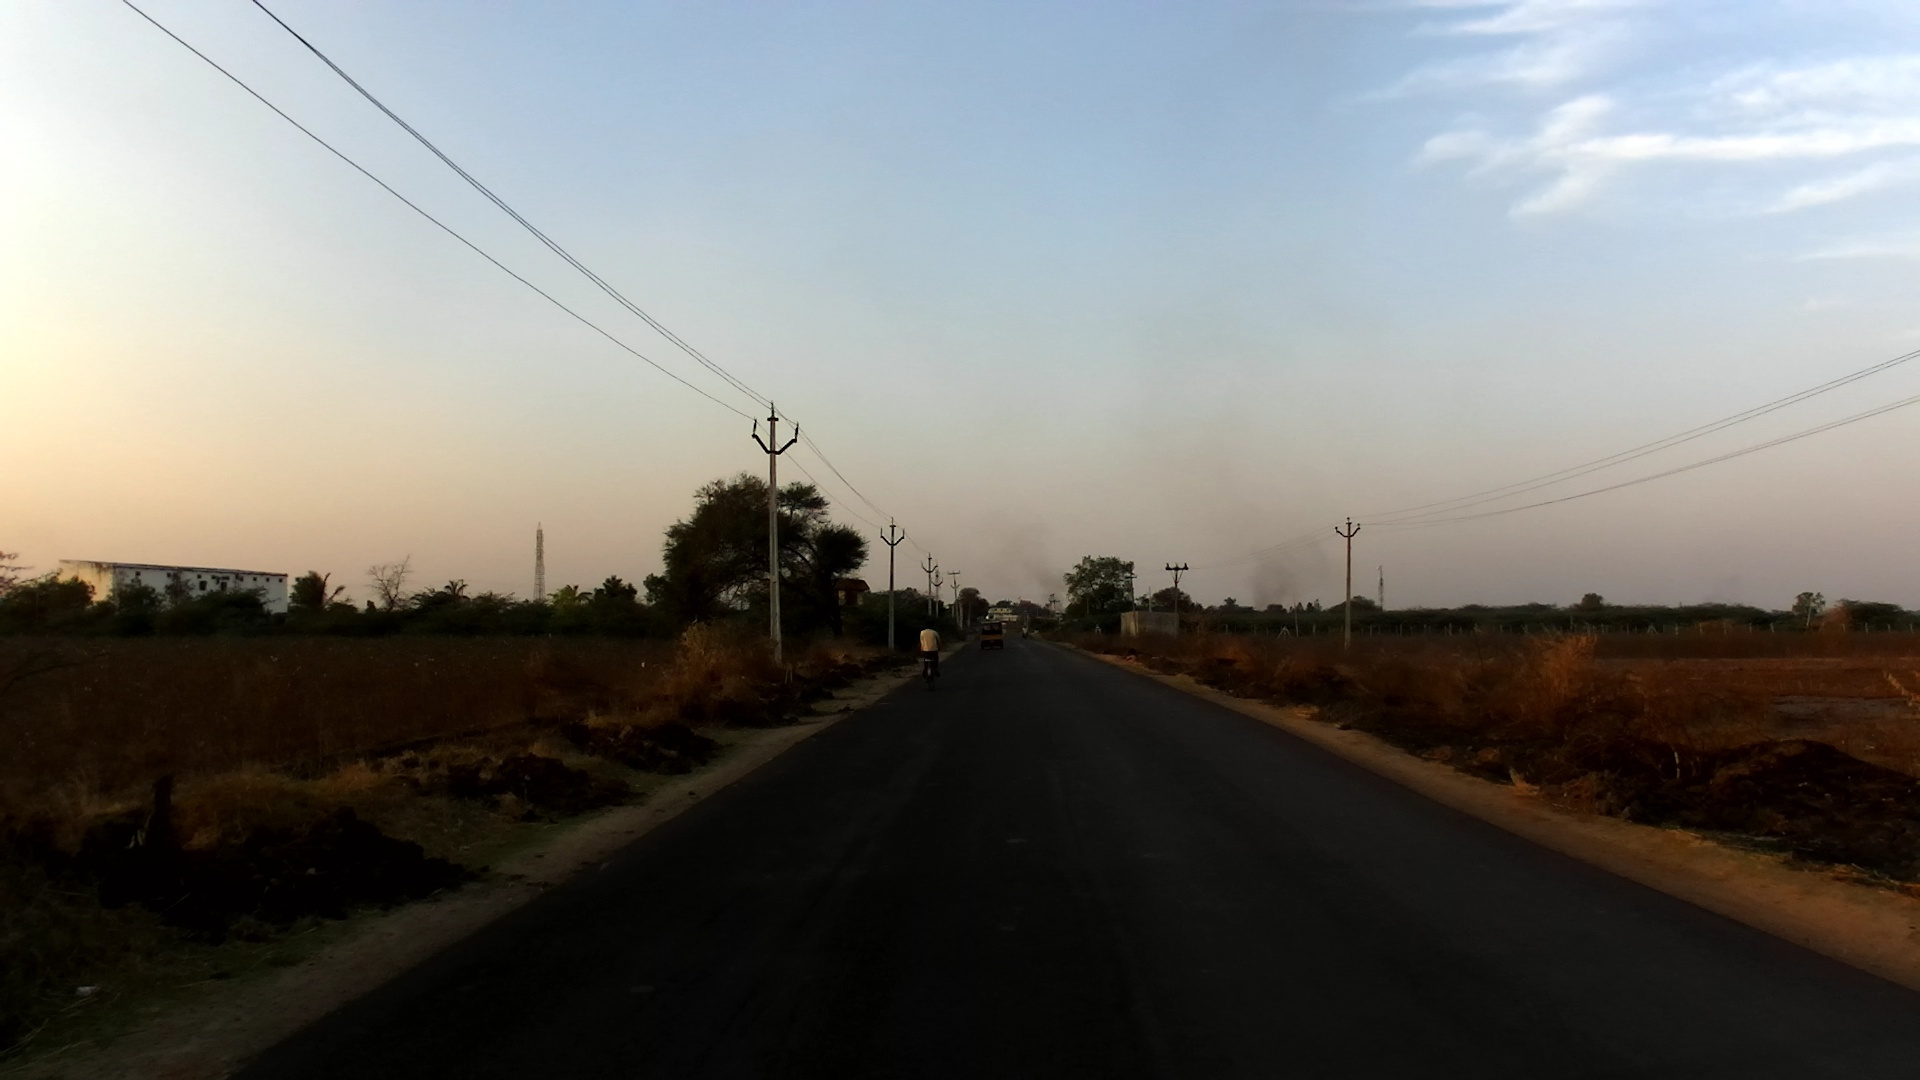bicycle: (918, 638, 943, 691)
car: (977, 611, 1002, 646)
rider: (915, 624, 947, 688)
vehicle fallback: (1019, 626, 1033, 639)
